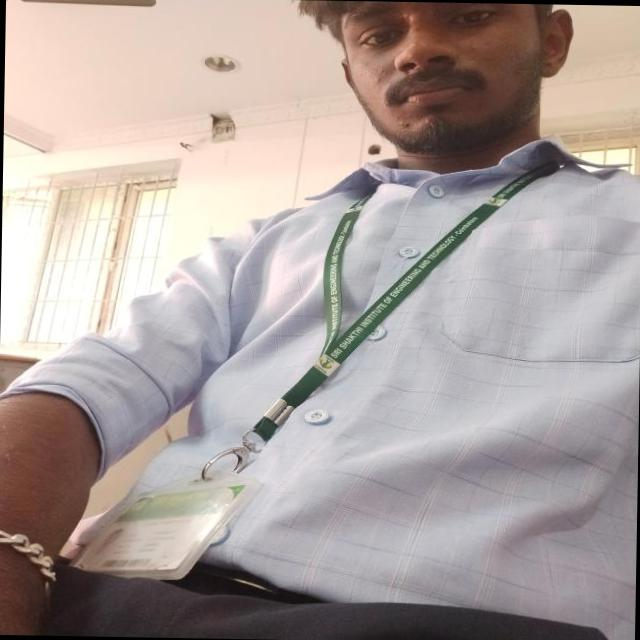id_card: (70, 149, 524, 578)
